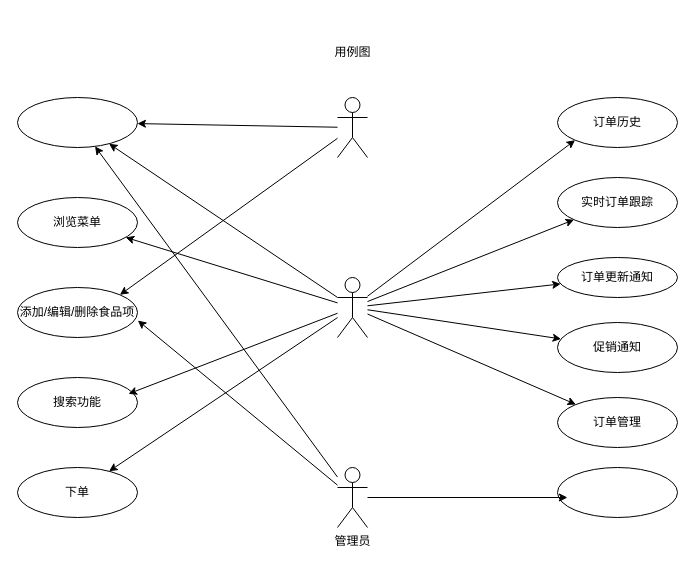
This 695x565 diagram has some shape labels left out. The shapes that lost their labels are listed below. From the top down, each one's centre as x and y in pixels, then its label:
the point at 77,122: 注册/登录
the point at 352,127: 餐厅店主
the point at 352,307: 客户
the point at 617,492: 用户管理
